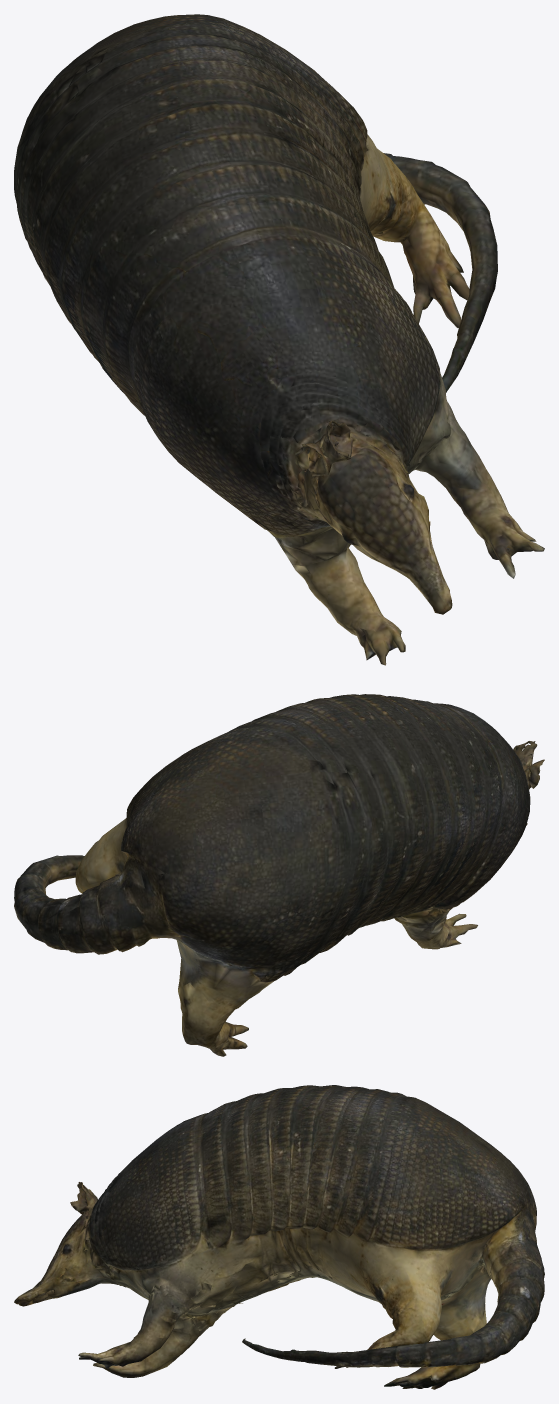
The model's file is armadillo.glb.
3 renders of one model, top to bottom at view 1: azimuth 30°, elevation 25°; view 2: azimuth 150°, elevation 25°; view 3: azimuth 270°, elevation 25°, orthographic. The views are drawn at different scales.
Parts seen in each view (by area): view 1: Object_2; view 2: Object_2; view 3: Object_2.
Part boxes in pixels (bbox=[...]): Object_2: bbox=[14, 14, 544, 665]; Object_2: bbox=[14, 694, 544, 1056]; Object_2: bbox=[14, 1085, 544, 1389].
Bounding box in the file's own units: 0.6258 × 0.5439 × 0.9264.
Materials: 1 (1 with a texture image).
